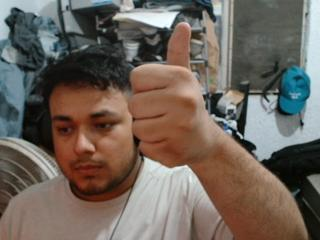Adelante: (115, 16, 226, 176)
